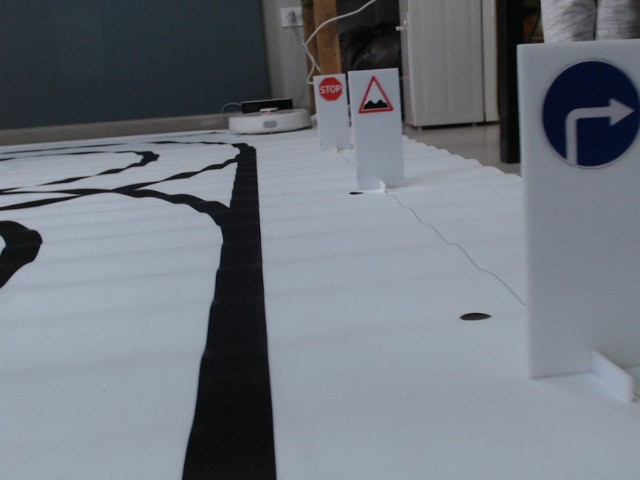Nerov: (358, 75, 393, 114)
Right: (537, 57, 637, 171)
Stop: (318, 77, 343, 100)
